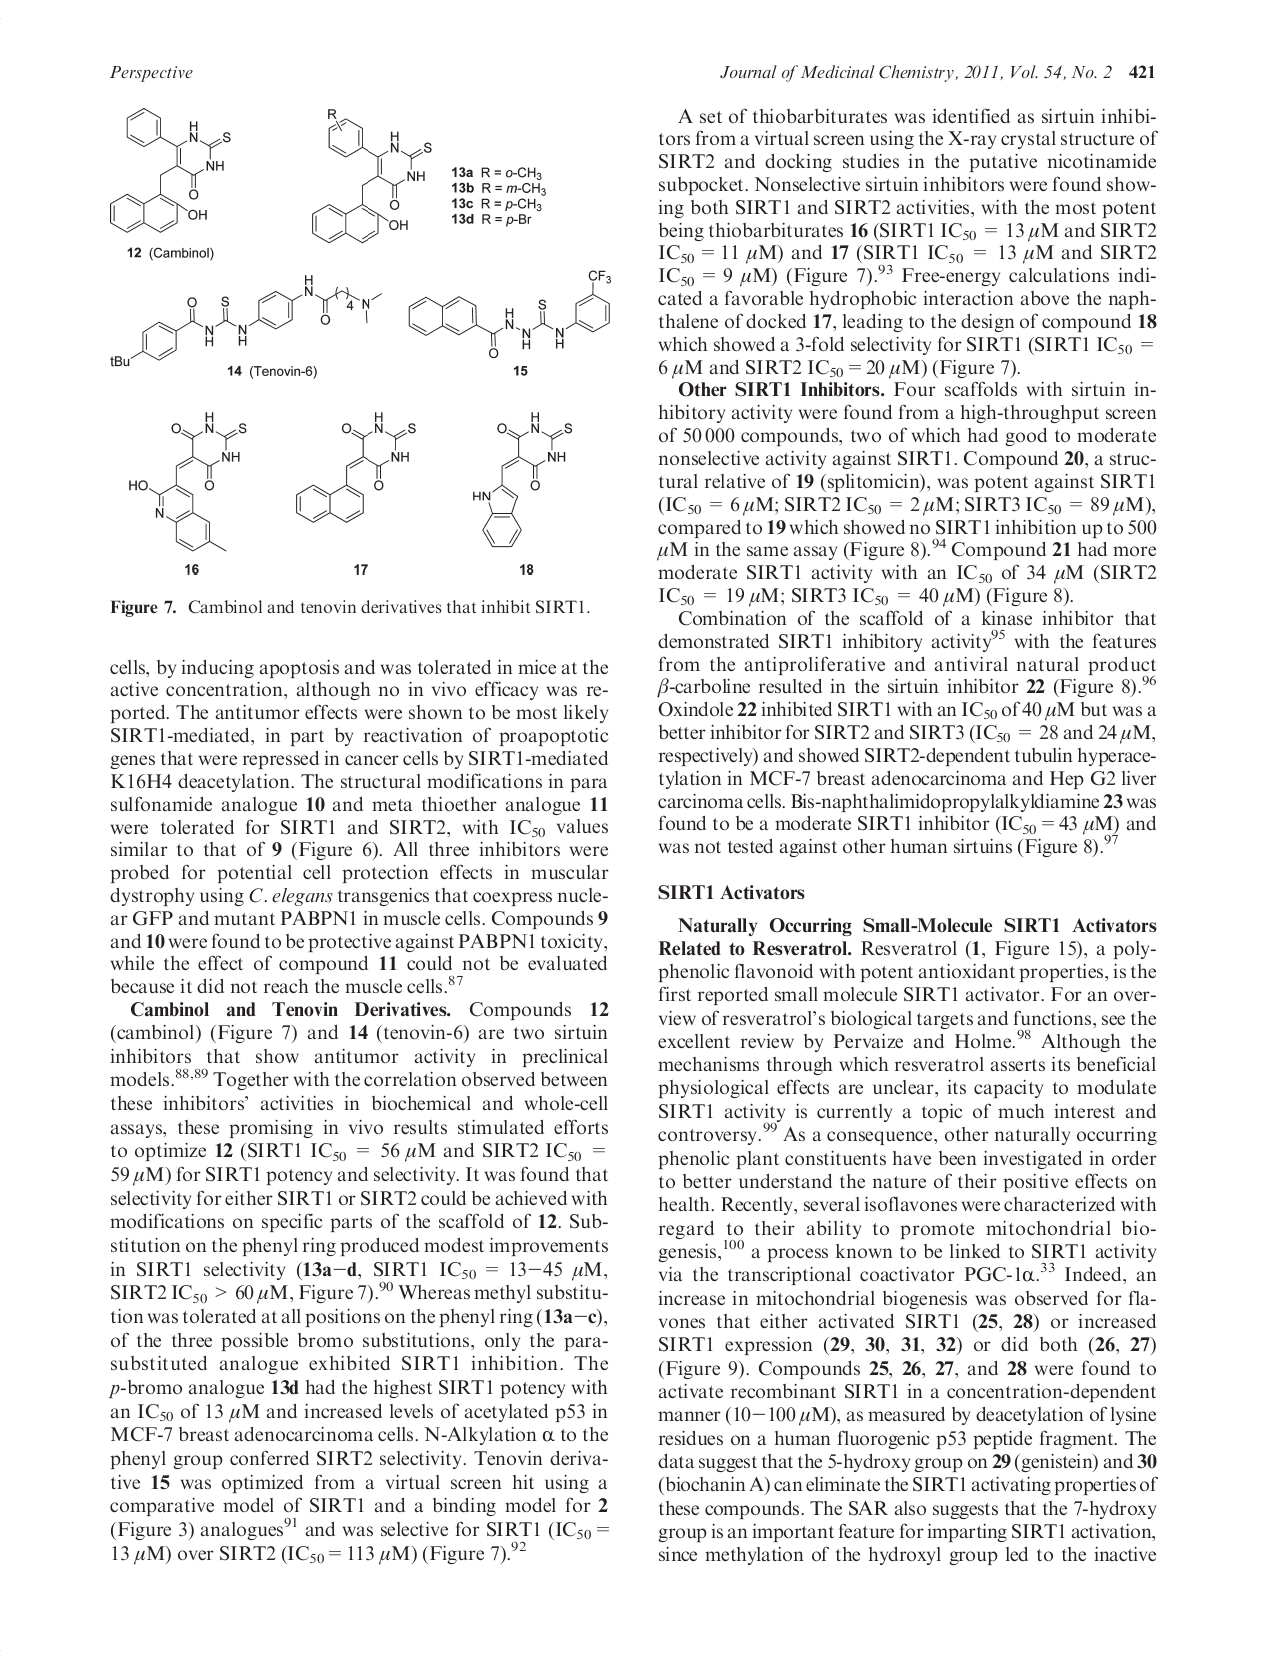exist_molecular: (106, 273, 386, 368), (406, 269, 617, 360), (309, 106, 435, 246), (128, 410, 249, 553), (106, 102, 233, 235), (469, 407, 574, 551), (291, 410, 420, 525)
